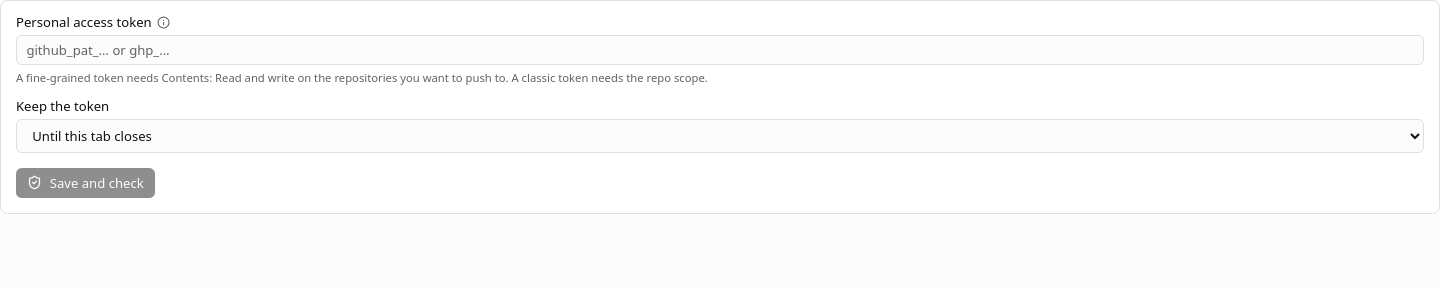
Test: the GitHub settings card › will not claim a fine-grained token cannot push, because GitHub does not say
In the password field labelled "Personal access token": coordinates (720, 50) 16,35 -> 1424,65, type "github_pat_11ABCDE0123456789abcdefghi"
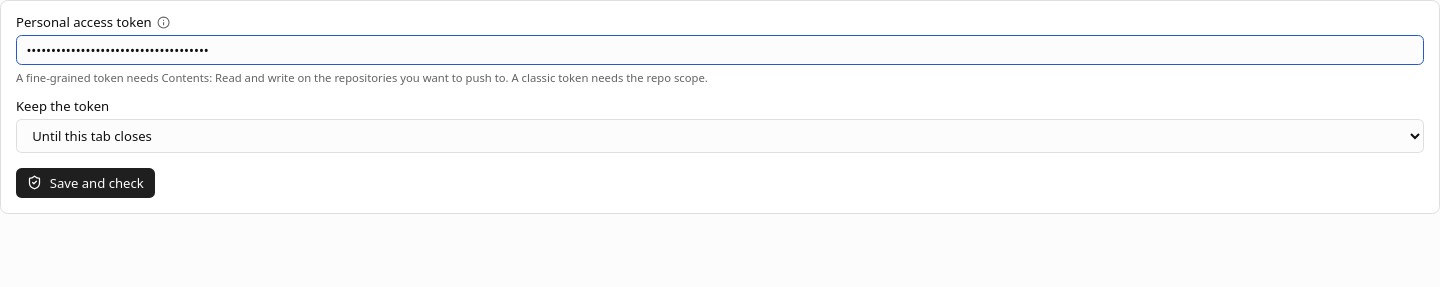
Click the button "Save and check": coordinates (86, 183) 16,168 -> 155,198
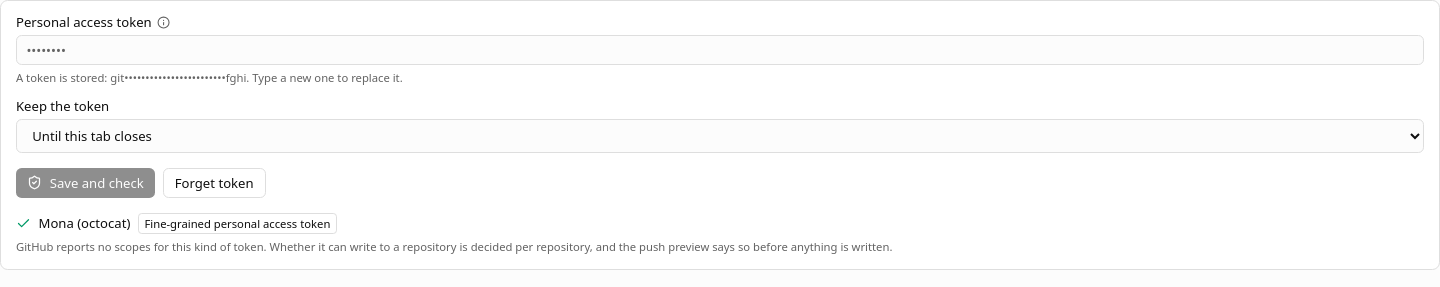
Result: the text "reports no scopes for this kind of token" is shown at 16,239 -> 892,254
